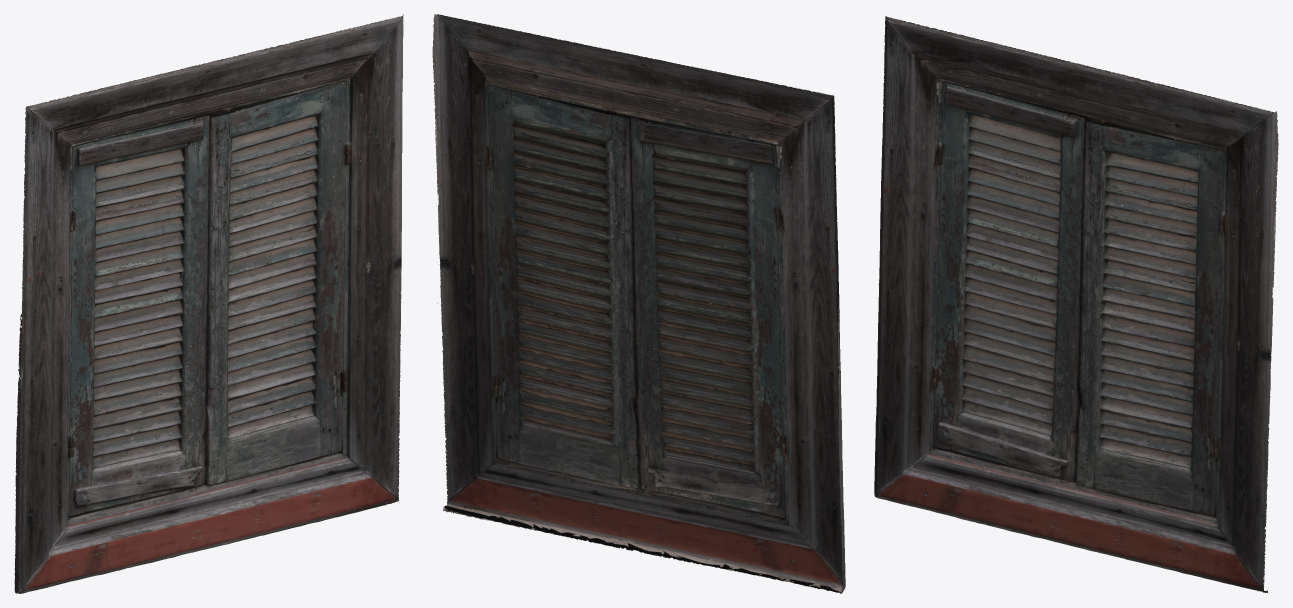
File: window.glb
3 views of the same model, side by side, from view 1: azimuth 30°, elevation 25°; view 2: azimuth 150°, elevation 25°; view 3: azimuth 330°, elevation 25° (orthographic). The views are drawn at different scales.
Visible parts, largest first — view 1: Model; view 2: Model; view 3: Model.
Part boxes in pixels (bbox=[...]): Model: bbox=[14, 14, 403, 593]; Model: bbox=[432, 14, 845, 593]; Model: bbox=[874, 16, 1278, 593].
Bounding box in the file's own units: 4.43 × 5.3 × 0.3429.
1 material, 1 textured.
